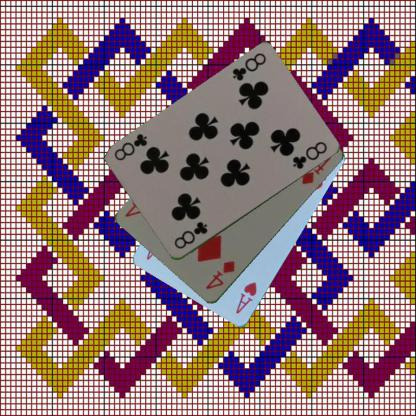4d: (203, 257, 237, 291)
8c: (230, 50, 268, 83), (172, 219, 209, 251)
Ah: (233, 280, 258, 315)
